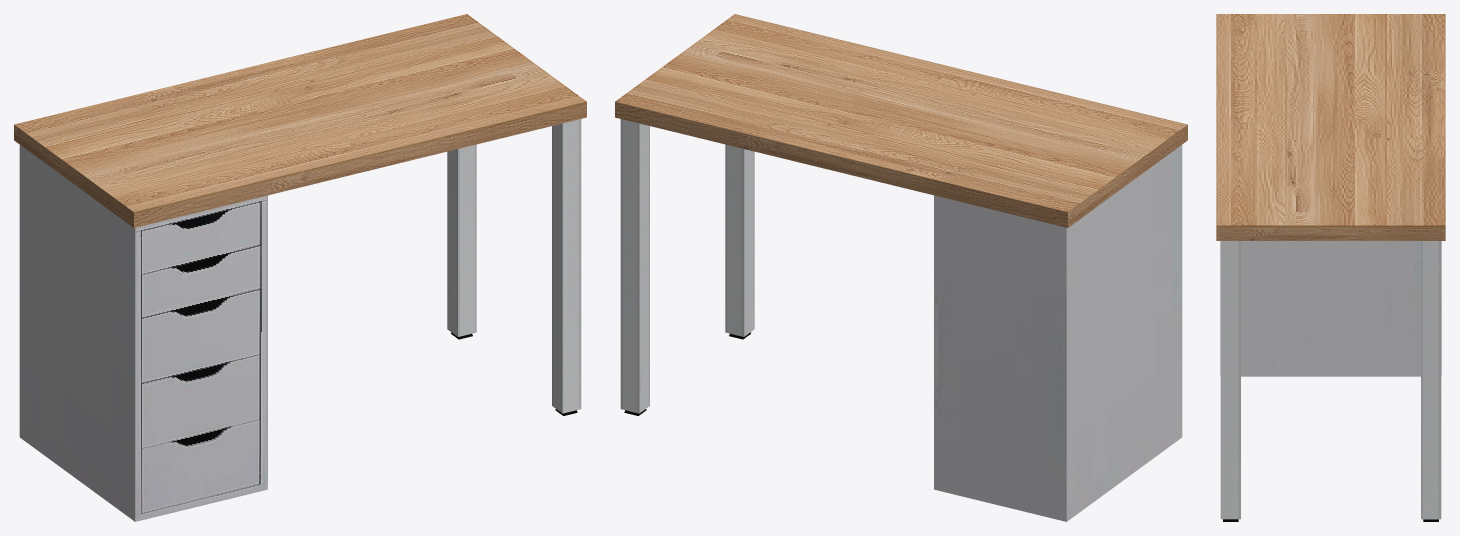
Rendered from desk.glb.
The picture shows the model from 3 angles, left to right: view 1: azimuth 30°, elevation 25°; view 2: azimuth 150°, elevation 25°; view 3: azimuth 270°, elevation 25°; orthographic projection. The views are drawn at different scales.
Visible parts, largest first — view 1: Modern Office Desk; view 2: Modern Office Desk; view 3: Modern Office Desk.
Part boxes in pixels (bbox=[...]): Modern Office Desk: bbox=[14, 14, 586, 521]; Modern Office Desk: bbox=[615, 14, 1187, 521]; Modern Office Desk: bbox=[1216, 14, 1445, 521].
Size of the model in its own units: 1.2 by 0.79 by 0.55.
Materials: 1 (1 with a texture image).
